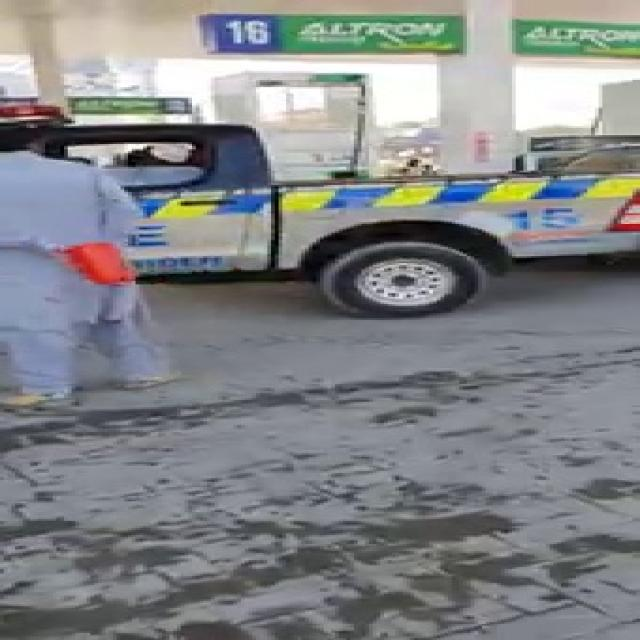police: (5, 103, 640, 289)
